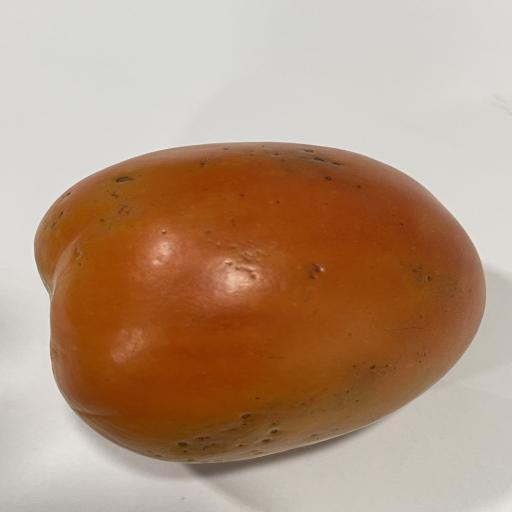unripe: (35, 142, 485, 463)
